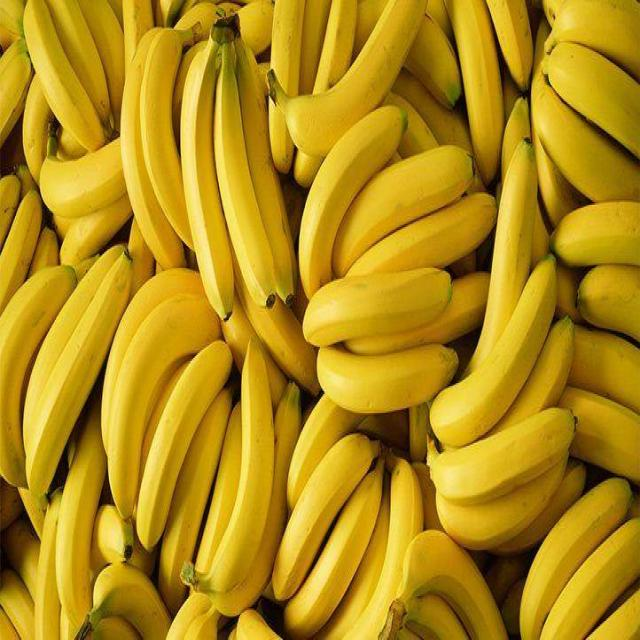banana: (298, 100, 496, 421), (423, 258, 582, 554), (102, 262, 234, 542), (180, 12, 300, 314), (0, 238, 133, 500), (183, 343, 307, 621), (270, 431, 424, 640), (59, 404, 183, 640), (533, 0, 640, 218), (117, 17, 204, 284), (517, 474, 640, 639), (16, 0, 133, 149)
